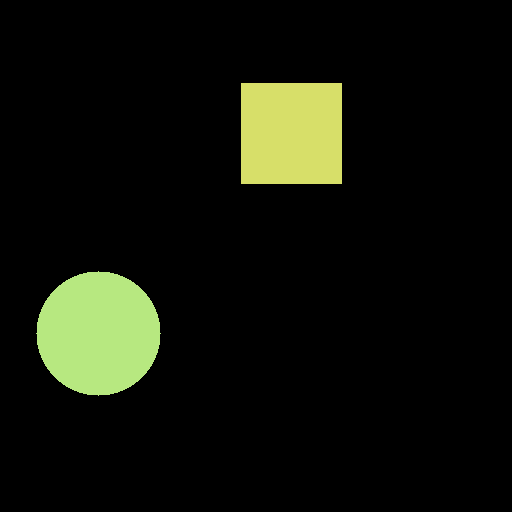circle: (36, 271, 160, 395)
square: (241, 83, 341, 183)
